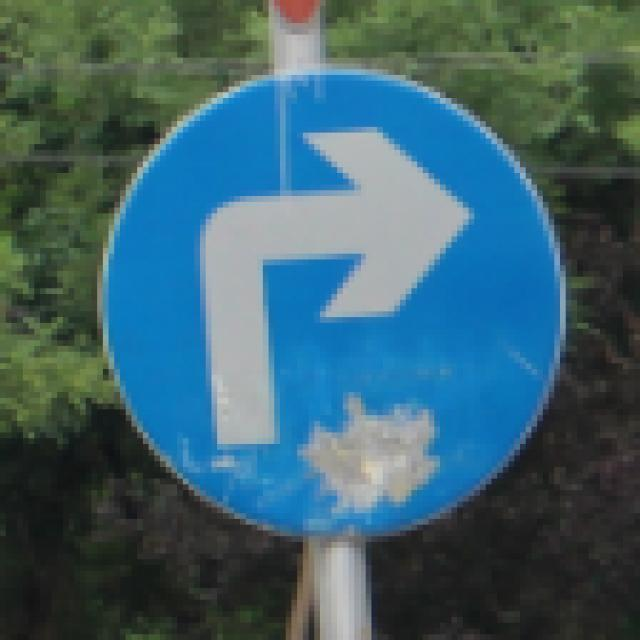Right: (108, 65, 556, 517)
